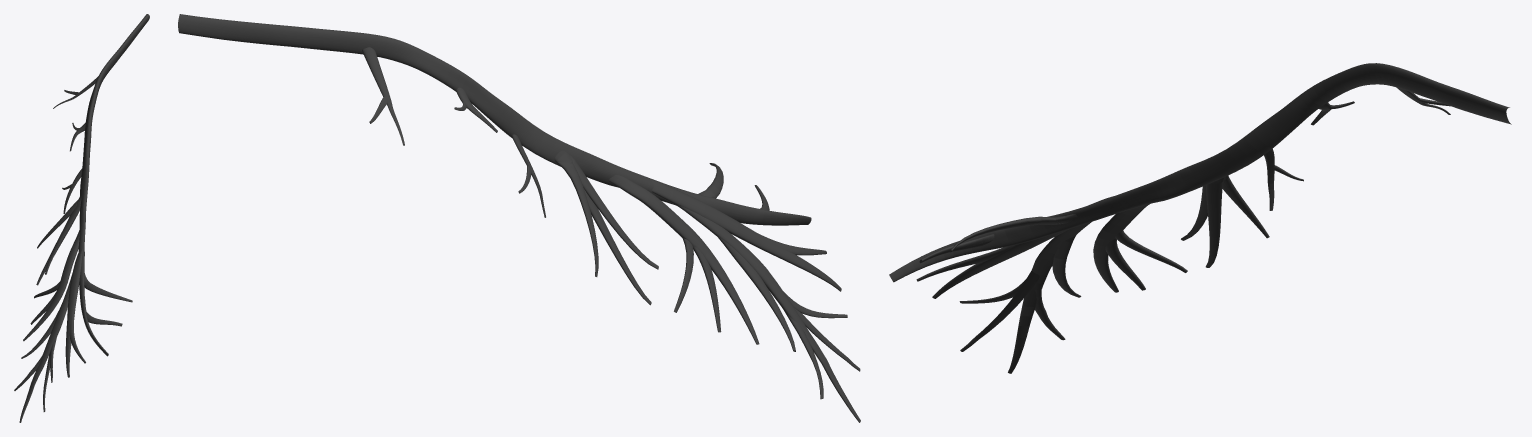
Rendered from N_5_trigeminus_maxillary_infraorbital.glb.
The picture shows the model from 3 angles, left to right: view 1: azimuth 30°, elevation 25°; view 2: azimuth 150°, elevation 25°; view 3: azimuth 270°, elevation 25°; orthographic projection. The views are drawn at different scales.
Visible parts, largest first — view 1: N_5_trigeminus_maxillary_infraorbital; view 2: N_5_trigeminus_maxillary_infraorbital; view 3: N_5_trigeminus_maxillary_infraorbital.
Part boxes in pixels (<box>): N_5_trigeminus_maxillary_infraorbital: <box>14,14,149,422</box>; N_5_trigeminus_maxillary_infraorbital: <box>178,14,860,422</box>; N_5_trigeminus_maxillary_infraorbital: <box>889,63,1511,373</box>.
Size of the model in its own units: 0.0349 by 0.0336 by 0.0374.
1 material, 1 textured.
